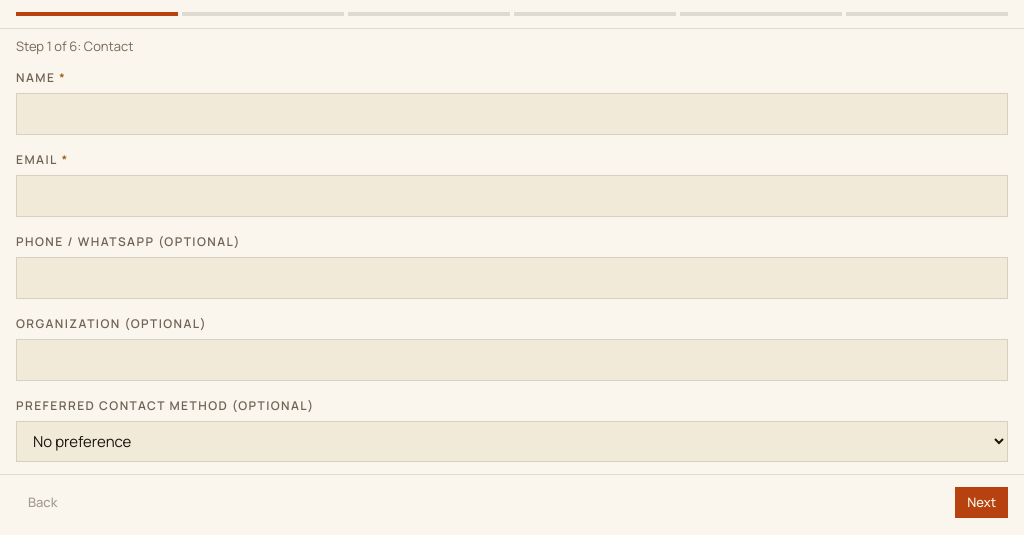
Test: ProjectDiscoveryWizard › Back returns to the previous step without losing entered data
Type "Jane Client" into the field labelled "Name*".
click(512, 114); type("Jane Client")  # box [16,92,1008,134]
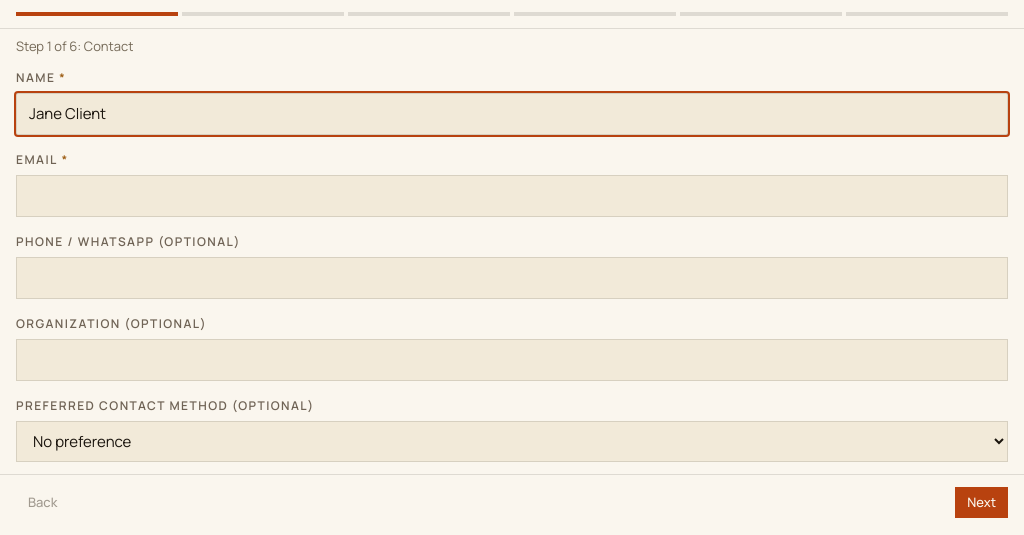
Type "jane@example.com" into the field labelled "Email*".
click(512, 196); type("jane@example.com")  # box [16,174,1008,216]
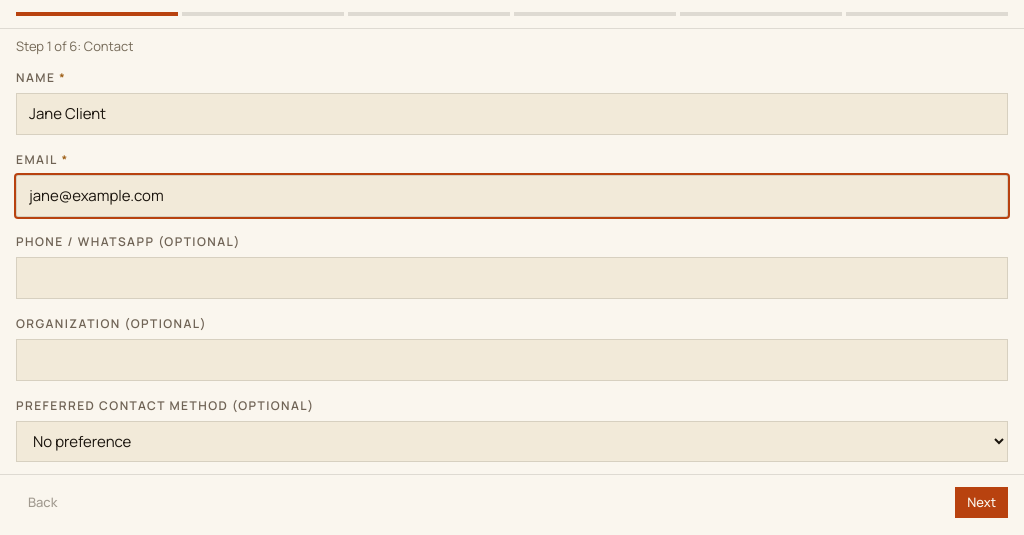
Click the button "Next".
click(982, 502)  # box [955,486,1008,518]
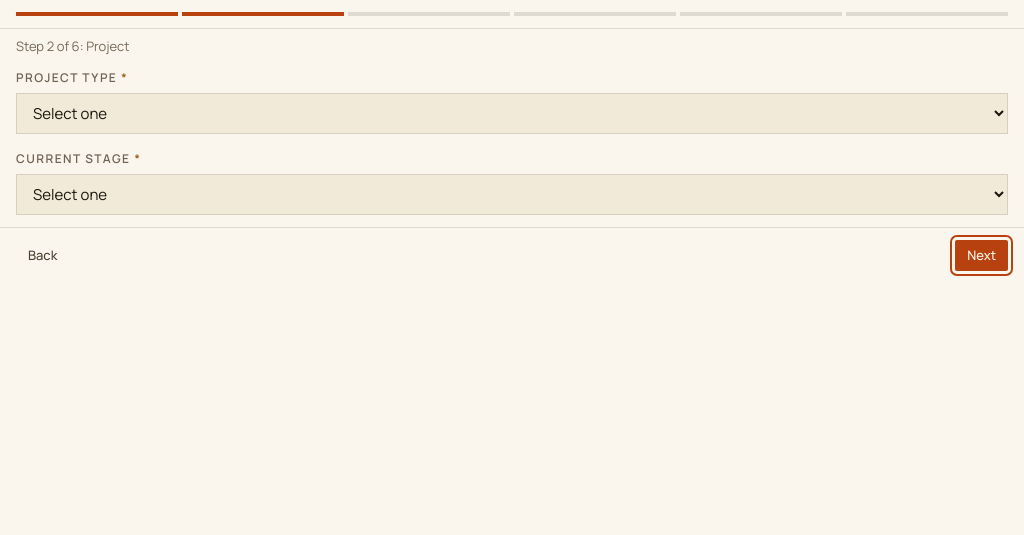
Now the text "Step 2 of 6: Project" is shown, box [16,37,130,55]
Click the button "Back".
click(43, 255)  # box [16,240,69,271]
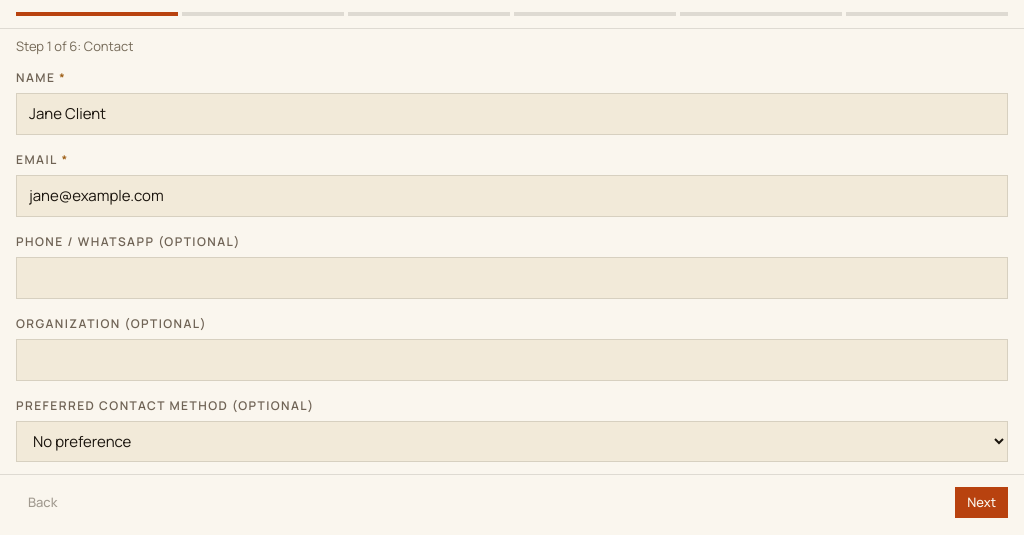
Now the text "Step 1 of 6: Contact" is shown, box [16,37,133,55]
Now the field labelled "Name*" holds "Jane Client", box [16,92,1008,134]
